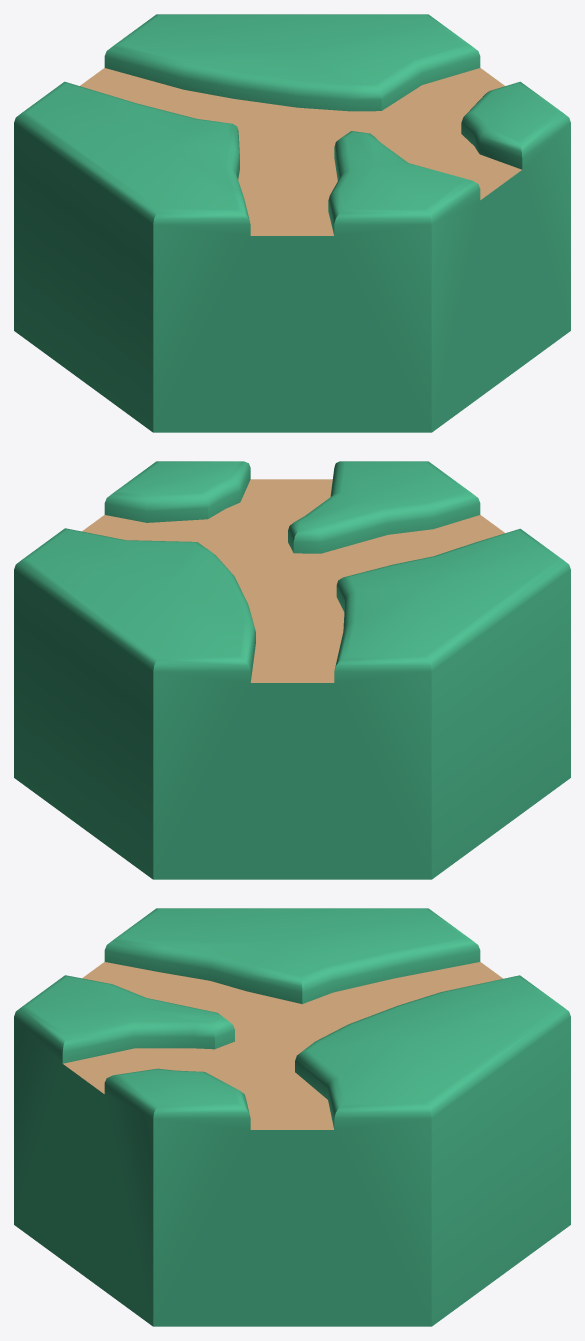
File: hex_forest_roadI.glb
3 renders of one model, top to bottom at view 1: azimuth 30°, elevation 25°; view 2: azimuth 150°, elevation 25°; view 3: azimuth 270°, elevation 25°, orthographic.
Visible parts, largest first — view 1: hex_forest_roadI; view 2: hex_forest_roadI; view 3: hex_forest_roadI.
Boxes of the visible parts, x1,y1,x2,y2 form: hex_forest_roadI: (14, 14, 570, 432); hex_forest_roadI: (14, 461, 570, 879); hex_forest_roadI: (14, 908, 570, 1326).
Size of the model in its own units: 2 by 1 by 2.31.
